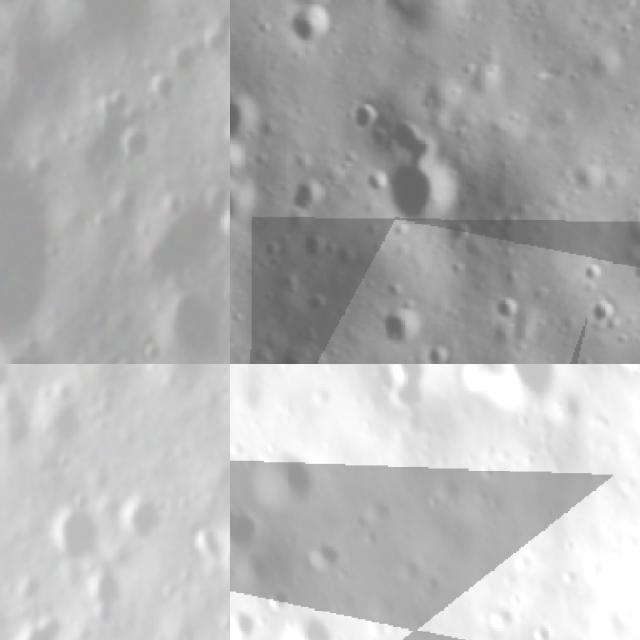crater: (0, 181, 54, 341), (374, 164, 468, 236), (234, 440, 326, 511), (459, 364, 568, 416), (152, 290, 220, 361), (116, 485, 178, 551), (48, 506, 108, 567), (77, 559, 125, 634), (382, 114, 448, 164), (361, 364, 430, 410), (282, 3, 338, 48), (7, 604, 73, 640), (372, 304, 424, 348), (42, 395, 86, 447), (296, 534, 353, 574), (230, 87, 267, 144), (285, 602, 340, 640), (230, 488, 261, 554), (579, 292, 624, 331), (236, 540, 276, 583), (115, 124, 153, 169), (230, 176, 265, 222), (566, 158, 608, 195), (291, 174, 328, 214), (342, 95, 377, 134), (487, 289, 523, 326), (230, 604, 266, 640), (230, 133, 256, 180), (263, 577, 296, 612), (296, 229, 330, 262), (574, 255, 608, 288), (420, 340, 459, 364), (217, 211, 230, 250), (0, 364, 14, 396), (109, 356, 140, 364)
